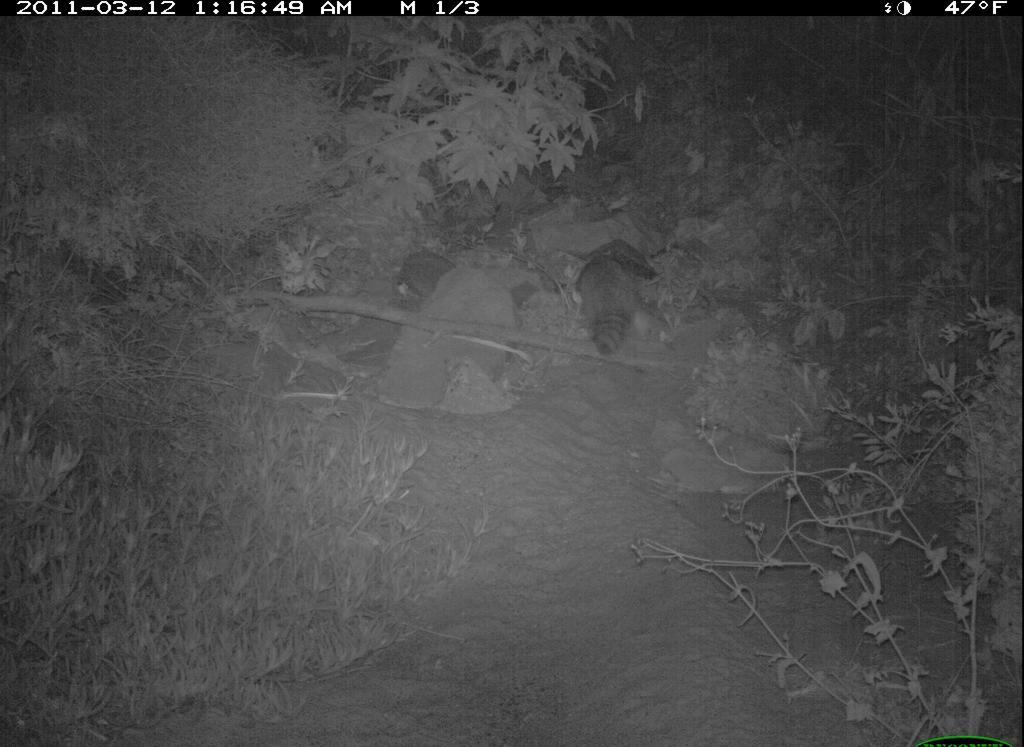raccoon: (574, 225, 666, 370)
